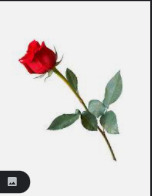RedRose: (13, 40, 66, 74)
